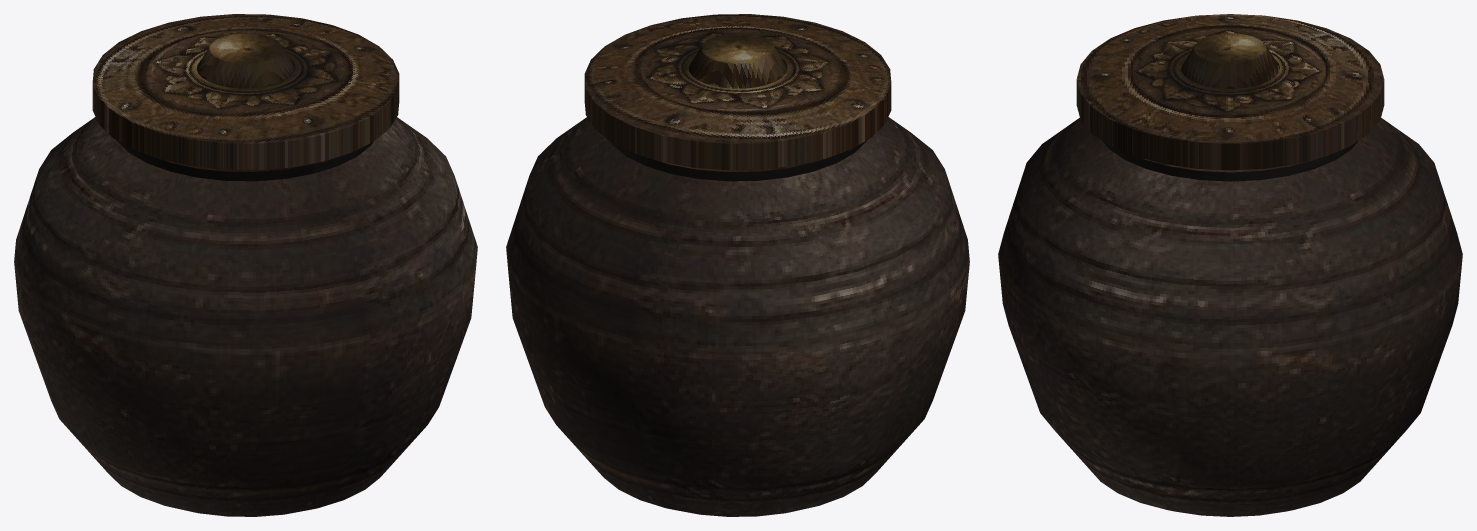
Rendered from crock_lidded_sooted.glb.
3 views of the same model, side by side, from view 1: azimuth 30°, elevation 25°; view 2: azimuth 150°, elevation 25°; view 3: azimuth 270°, elevation 25° (orthographic).
Visible parts, largest first — view 1: body, piece_09, piece_06, piece_07, piece_00, piece_05, piece_11, piece_10, piece_08, piece_01; view 2: body, piece_11, piece_10, piece_04, piece_09, piece_03, piece_08, piece_07, piece_06, piece_05; view 3: body, piece_07, piece_08, piece_10, piece_02, piece_01, piece_06, piece_09, piece_03, piece_11.
Part boxes in pixels (x1,y1,x2,y2): body: (14, 117, 477, 516); piece_09: (29, 45, 257, 357); piece_06: (177, 59, 412, 373); piece_07: (258, 39, 475, 347); piece_00: (175, 356, 411, 516); piece_05: (22, 263, 188, 510); piece_11: (22, 37, 224, 254); piece_10: (130, 14, 306, 55); piece_08: (272, 19, 443, 154); piece_01: (355, 299, 472, 494); body: (506, 117, 969, 516); piece_11: (688, 57, 895, 317); piece_10: (515, 43, 742, 314); piece_04: (683, 303, 903, 516); piece_09: (742, 38, 969, 300); piece_03: (511, 266, 697, 514); piece_08: (506, 37, 706, 264); piece_07: (621, 14, 781, 56); piece_06: (753, 16, 882, 58); piece_05: (863, 286, 956, 485); body: (998, 117, 1462, 516); piece_07: (1008, 48, 1234, 369); piece_08: (1173, 62, 1382, 369); piece_10: (1235, 40, 1453, 316); piece_02: (1173, 318, 1385, 513); piece_01: (1019, 324, 1182, 510); piece_06: (998, 36, 1203, 308); piece_09: (1117, 14, 1277, 58); piece_03: (1338, 207, 1462, 495); piece_11: (1247, 17, 1407, 140).
Bounding box in the file's own units: 0.4 × 0.3936 × 0.4.
Materials: 1 (1 with a texture image).
